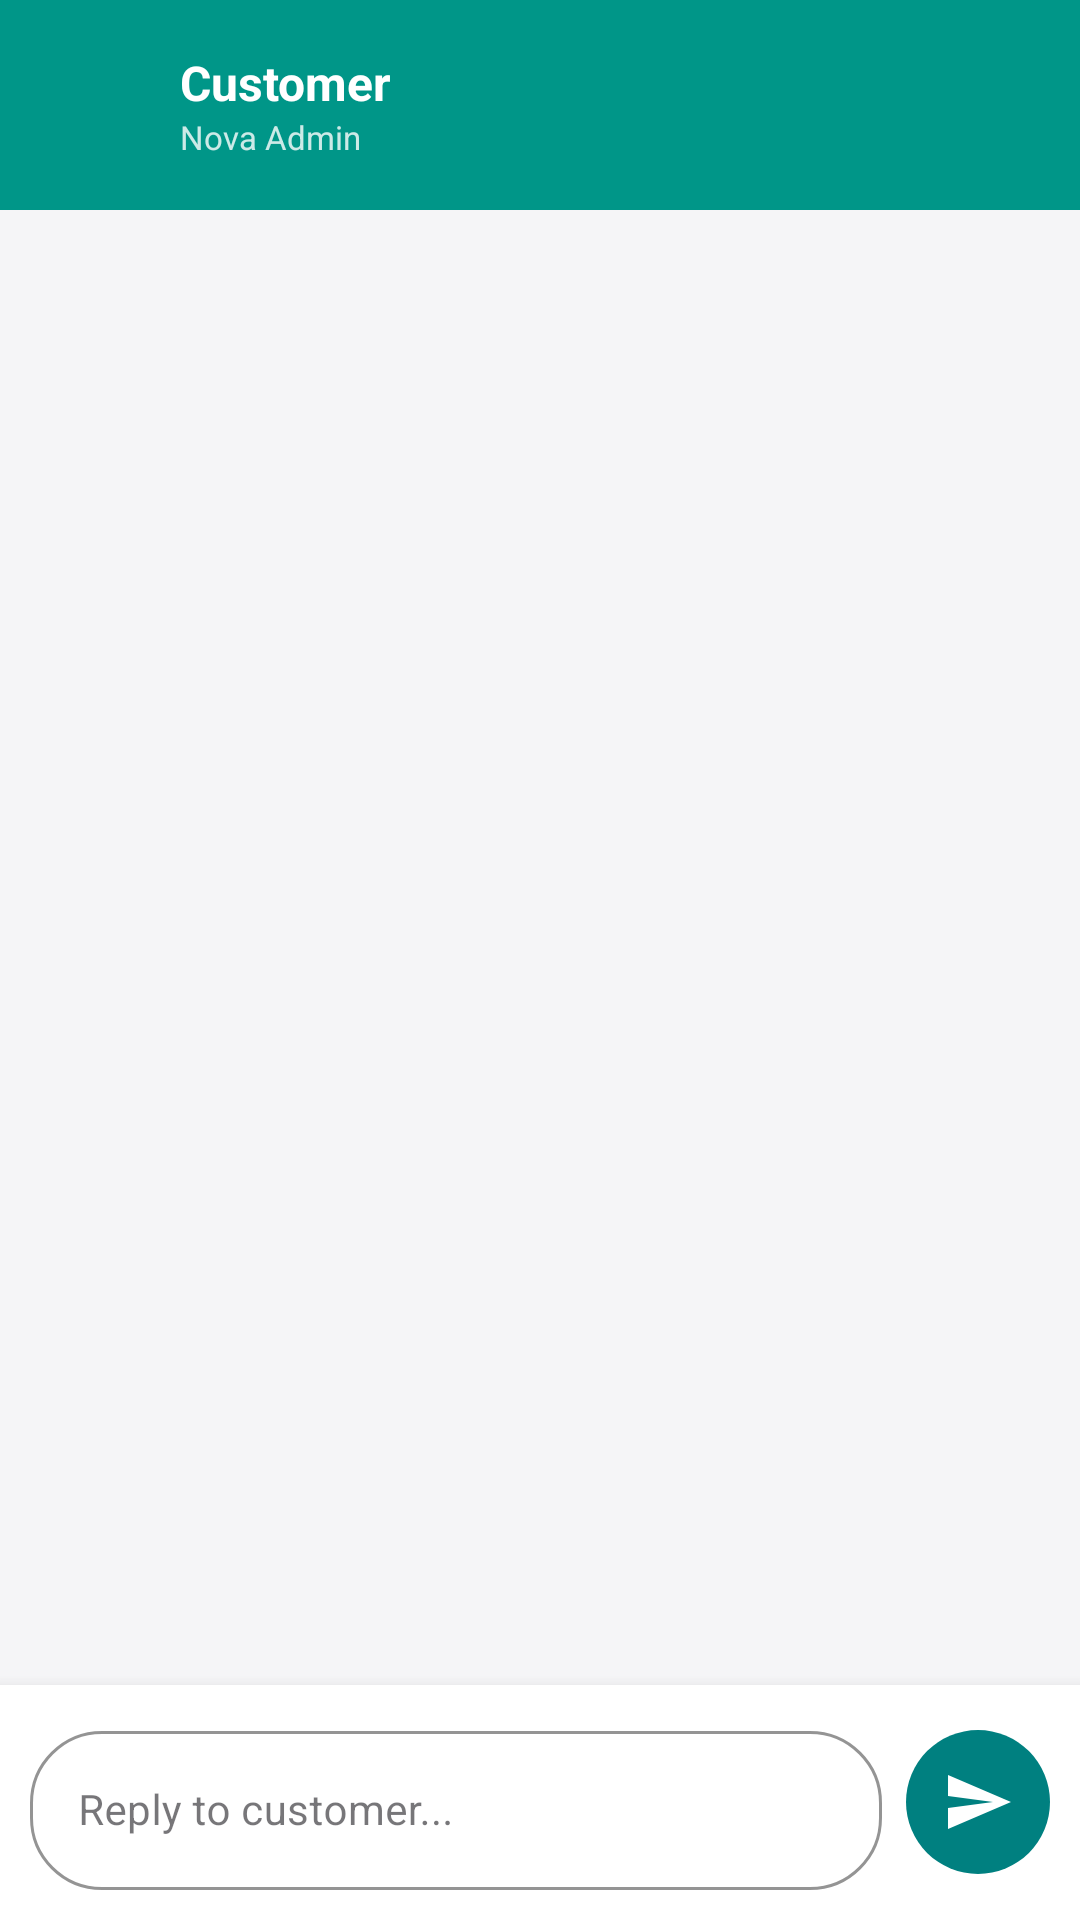

Screen size 1080w x 1920h. Icon name, then its center in pixels as point (x, y):
send: point (978, 1802)
